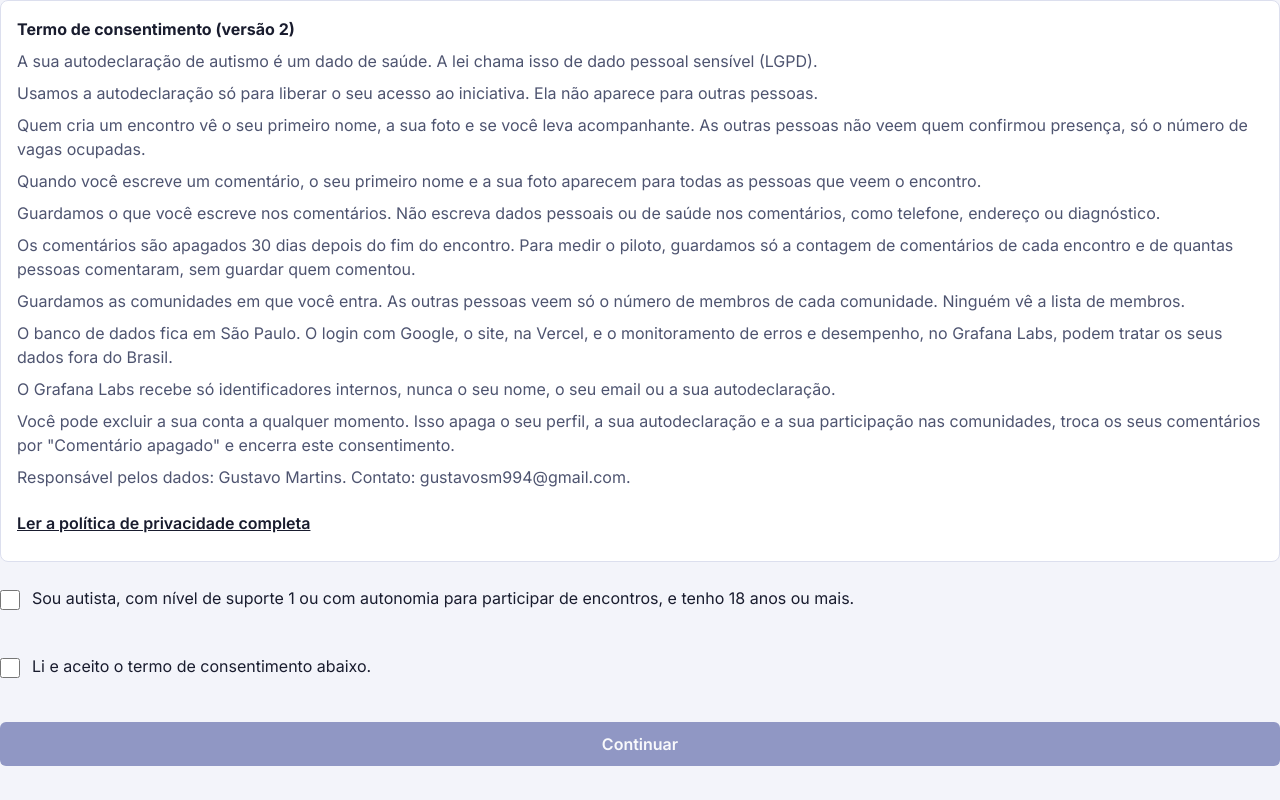
tela /boas-vindas › pede confirmação explícita antes de enviar
This screenshot has width=1280, height=800.
Click the checkbox labelled "Sou autista" at (10, 600), box [0,590,20,610]
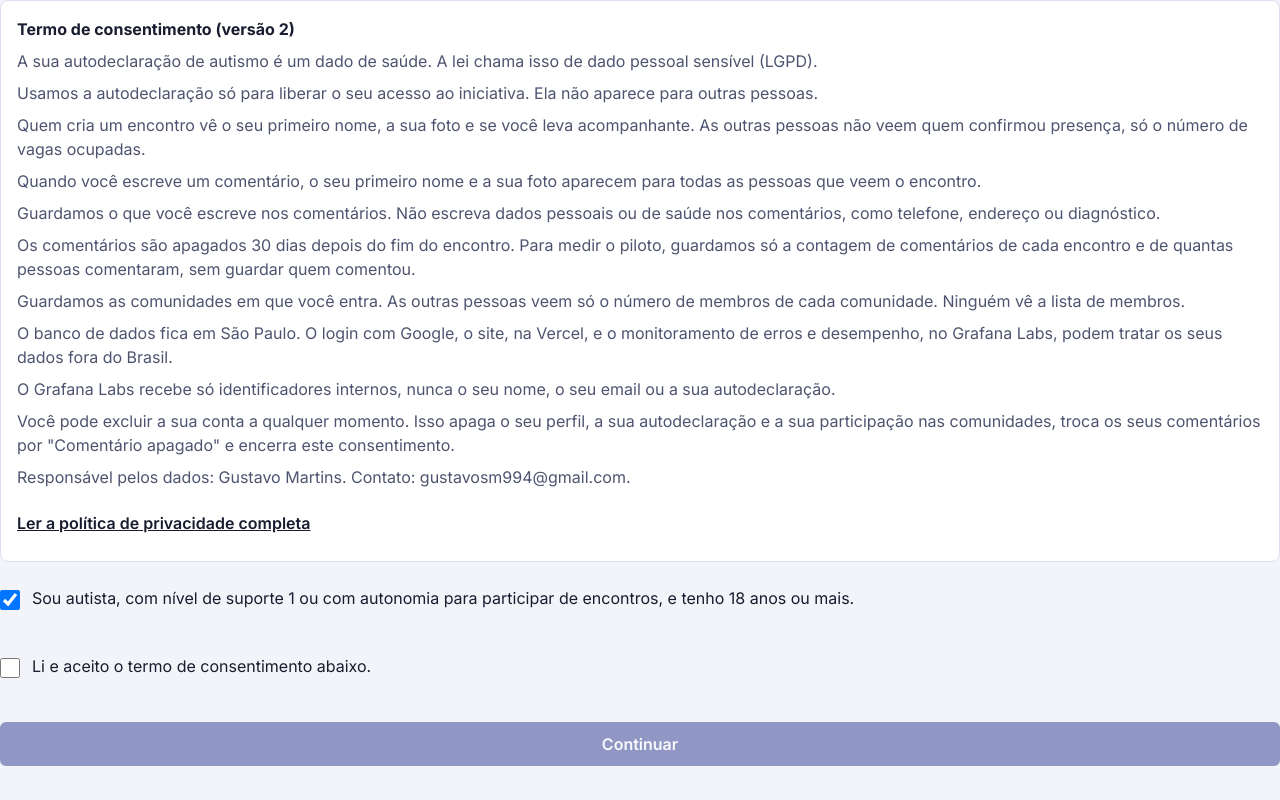
Click the checkbox labelled "Li e aceito o termo de consentimento abaixo." at (10, 668), box [0,658,20,678]
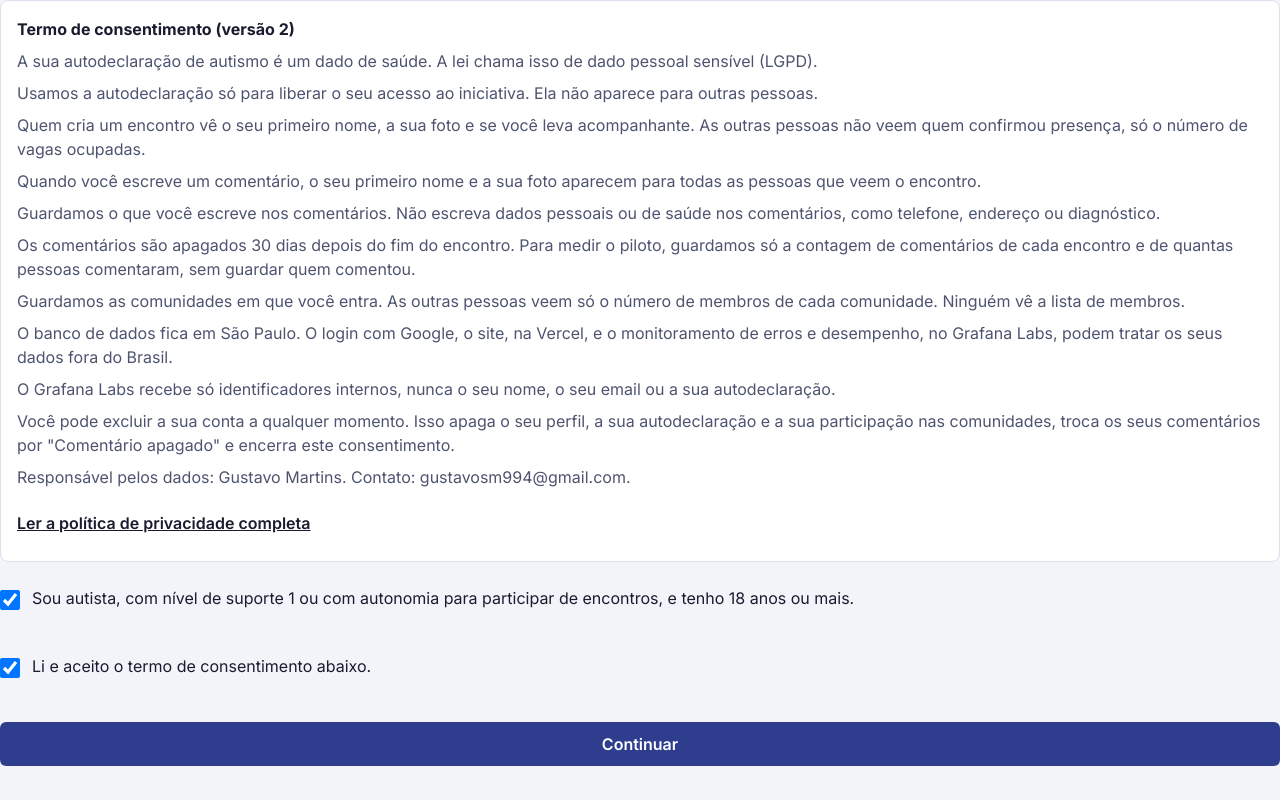
Click the button "Continuar" at (640, 744), box [0,722,1279,766]
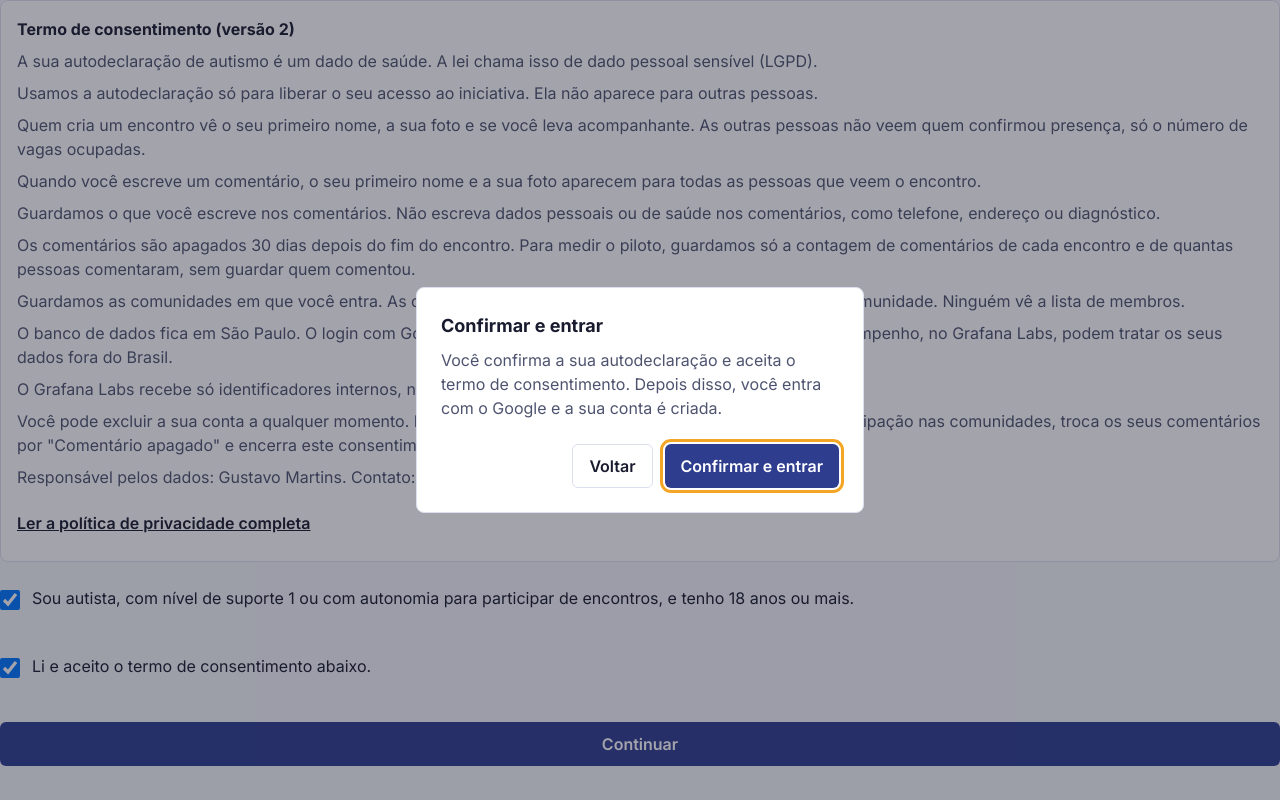
Expected: the dialog shows "Confirmar e entrar", [441,315,603,336]
